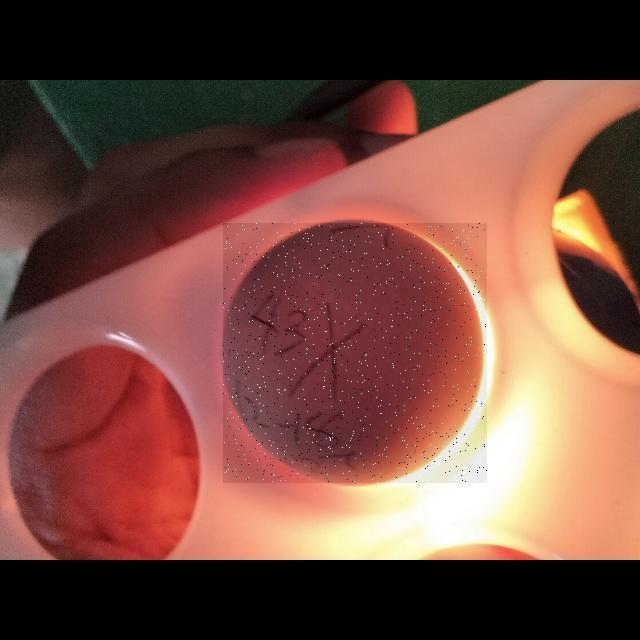AA - Premium: (222, 220, 481, 489)
